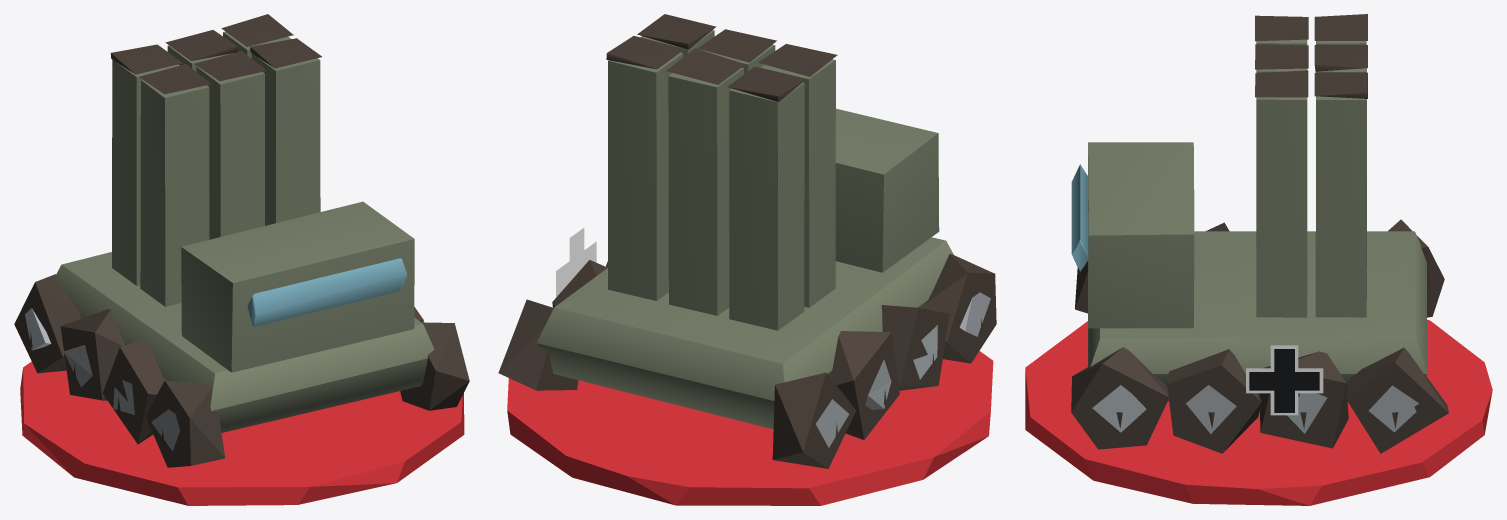
File: germany_missile_lod1.glb
The picture shows the model from 3 angles, left to right: view 1: azimuth 30°, elevation 25°; view 2: azimuth 150°, elevation 25°; view 3: azimuth 270°, elevation 25°; orthographic projection. The views are drawn at different scales.
Visible parts, largest first — view 1: body_hull, base_pedestal; view 2: body_hull, base_pedestal; view 3: body_hull, base_pedestal.
Boxes of the visible parts, bbox=[...] form: body_hull: bbox=[14, 14, 469, 467]; base_pedestal: bbox=[20, 361, 464, 505]; body_hull: bbox=[498, 14, 996, 468]; base_pedestal: bbox=[507, 351, 993, 505]; body_hull: bbox=[1071, 14, 1448, 453]; base_pedestal: bbox=[1025, 319, 1492, 505].
Size of the model in its own units: 0.7751 by 0.6492 by 0.7751.
